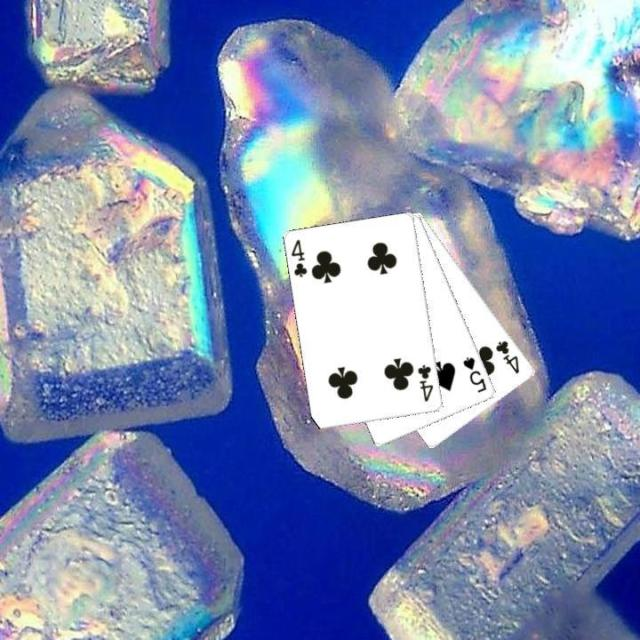4C: (492, 336, 522, 376), (287, 236, 309, 279), (414, 361, 436, 403)
5S: (459, 353, 489, 395)
